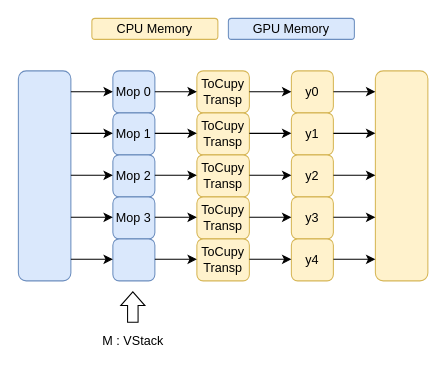
Some shapes in this 446 by 376 pixel diagram are drawn without their labels. Each missing label, with the centre of its shape:
Data y: point 401,175
Model x: point 44,175
Mop 4: point 133,259
